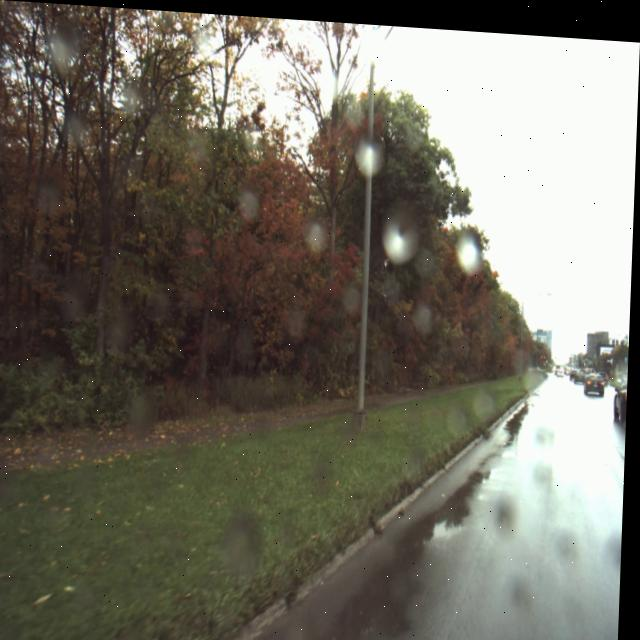car: (614, 368, 630, 420), (585, 364, 608, 389), (576, 361, 588, 377), (558, 361, 567, 369)
